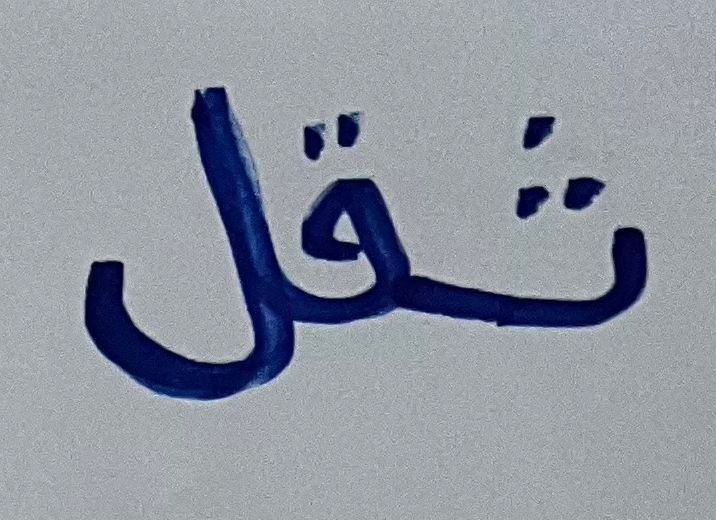lam: (45, 49, 295, 405)
qaf: (298, 92, 450, 338)
theh: (464, 87, 664, 351)
